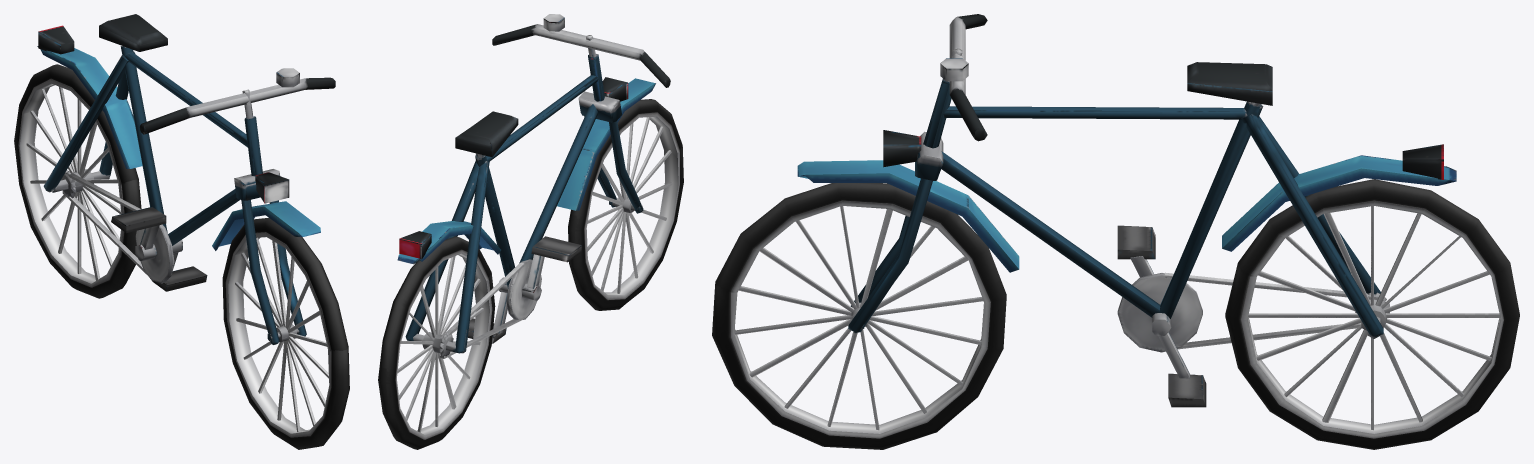
Rendered from fiets.obj.
3 renders of one model, left to right at view 1: azimuth 30°, elevation 25°; view 2: azimuth 150°, elevation 25°; view 3: azimuth 270°, elevation 25°, orthographic. The views are drawn at different scales.
Parts seen in each view (by area): view 1: Group; view 2: Group; view 3: Group.
Part boxes in pixels (x1,y1,x2,y2): Group: [14, 14, 349, 449]; Group: [378, 14, 683, 449]; Group: [712, 14, 1519, 449].
Size of the model in its own units: 21.54 by 35.52 by 63.49.
1 material, 1 textured.
